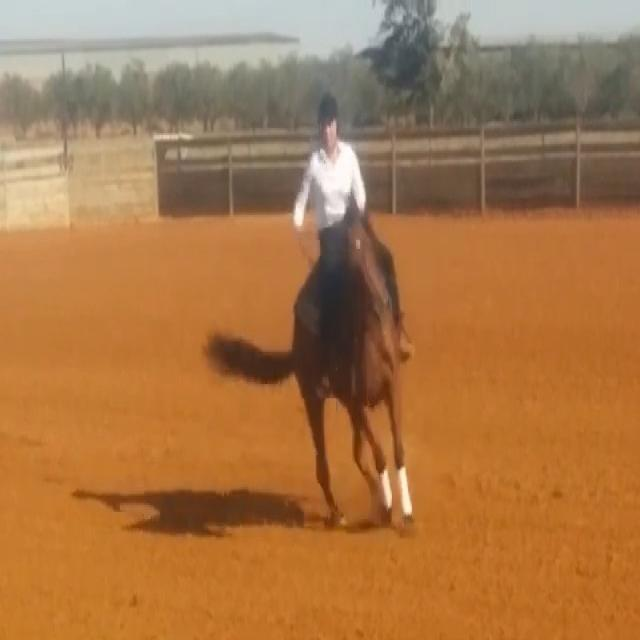horse: (202, 206, 417, 534)
